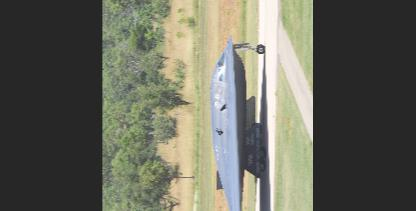B1: (210, 34, 265, 210)
